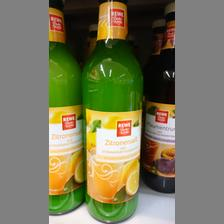Saft: (81, 1, 143, 222), (48, 2, 84, 214), (142, 3, 174, 191)
